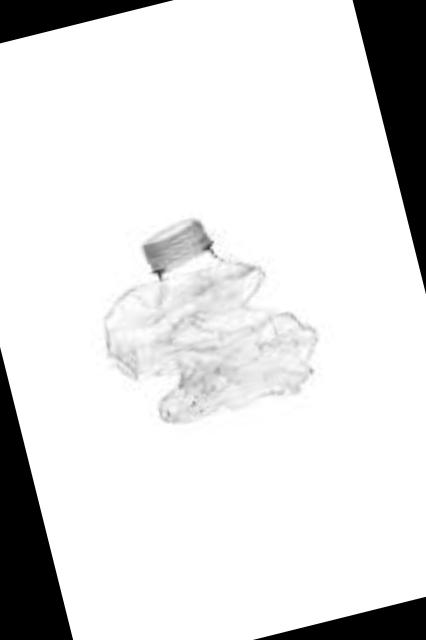plastic: (107, 215, 319, 418)
